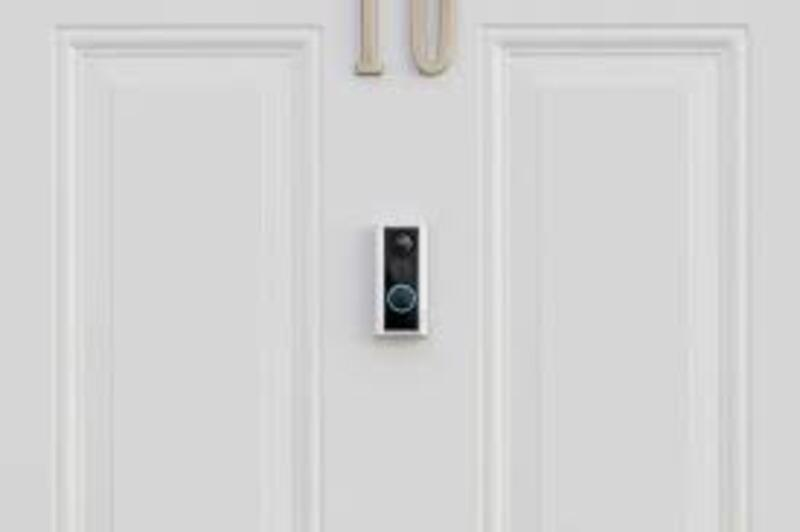doorbell: (370, 218, 430, 338)
